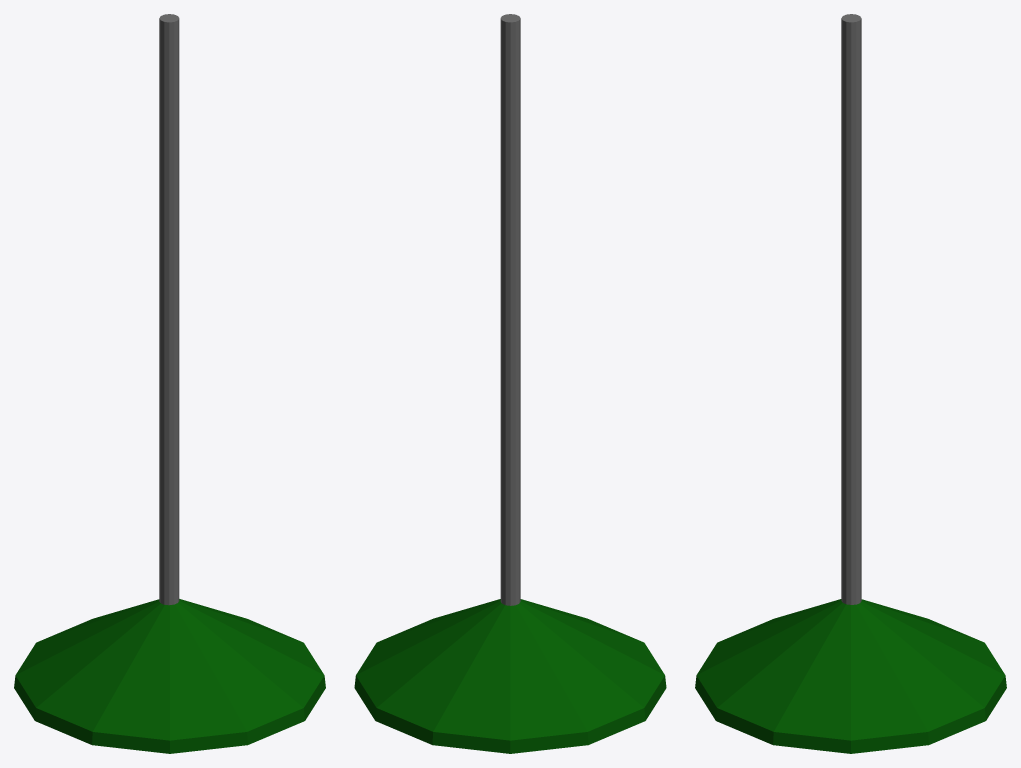
The model's file is LudumDareChandelier 1.fbx.
3 views of the same model, side by side, from view 1: azimuth 30°, elevation 25°; view 2: azimuth 150°, elevation 25°; view 3: azimuth 270°, elevation 25° (orthographic).
Parts seen in each view (by area): view 1: Chandelier, Chandelier.001; view 2: Chandelier, Chandelier.001; view 3: Chandelier, Chandelier.001.
Part boxes in pixels (left/top/right/bottom): Chandelier: left=14, top=599, right=325, bottom=753; Chandelier.001: left=159, top=14, right=179, bottom=605; Chandelier: left=354, top=599, right=666, bottom=753; Chandelier.001: left=500, top=14, right=520, bottom=605; Chandelier: left=695, top=599, right=1006, bottom=753; Chandelier.001: left=841, top=14, right=861, bottom=604.
Bounding box in the file's own units: 72.73 × 172 × 72.73.
